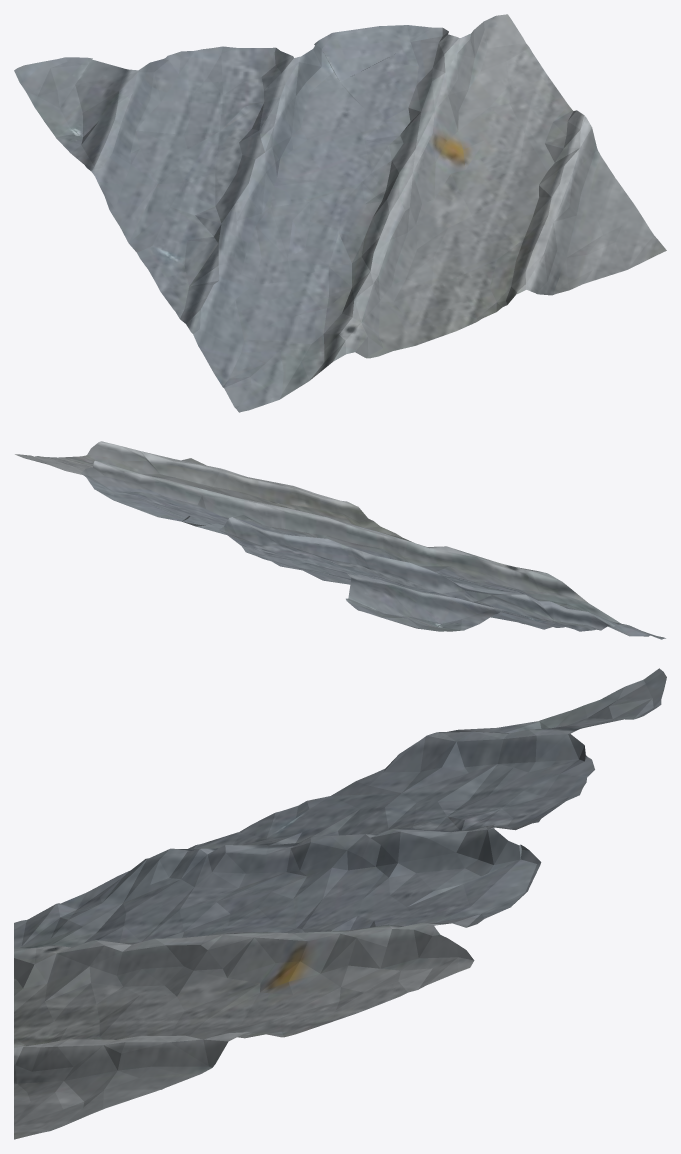
3 views of the same model, one above another, from view 1: azimuth 30°, elevation 25°; view 2: azimuth 150°, elevation 25°; view 3: azimuth 270°, elevation 25° (orthographic). The views are drawn at different scales.
Size of the model in its own units: 0.8373 by 0.3322 by 0.7717.
Materials: 2 (2 with a texture image).
